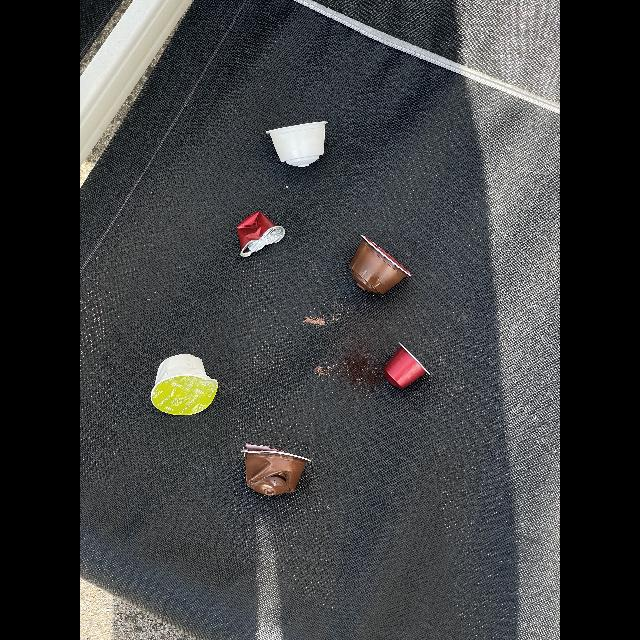damaged_capsule: (230, 436, 322, 504), (150, 348, 222, 419), (234, 206, 290, 258)
intact_capsule: (346, 230, 420, 306), (262, 114, 336, 174), (379, 334, 441, 391)
